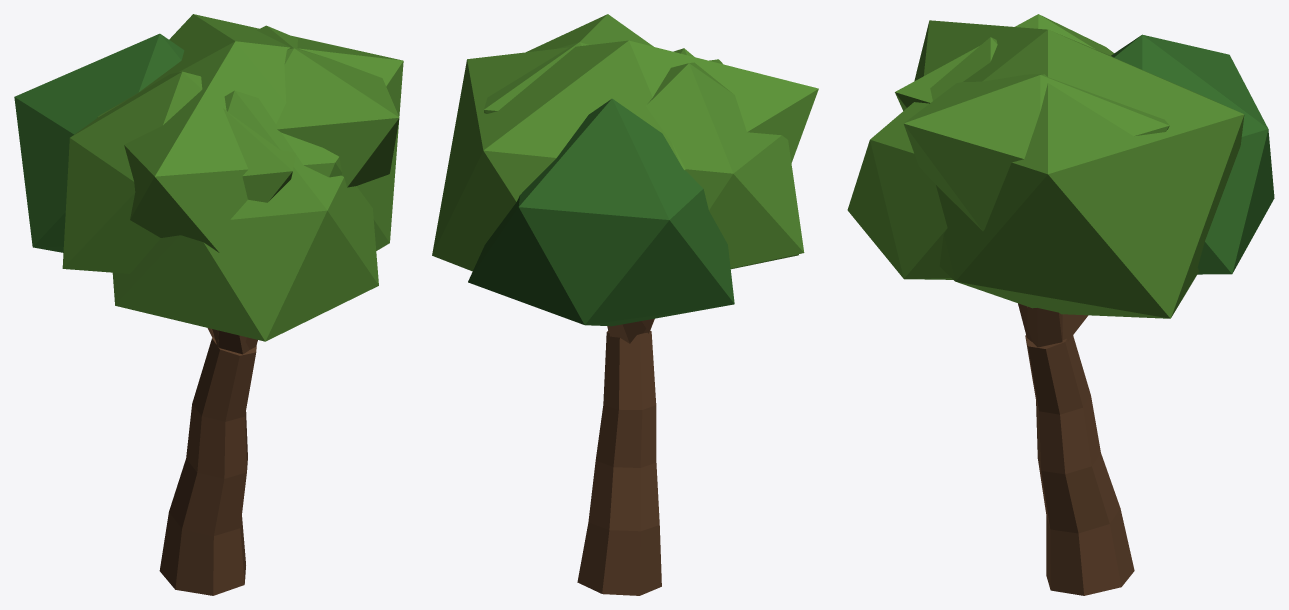
Rendered from Tree_Oak_C.glb.
3 renders of one model, left to right at view 1: azimuth 30°, elevation 25°; view 2: azimuth 150°, elevation 25°; view 3: azimuth 270°, elevation 25°, orthographic. The views are drawn at different scales.
Parts seen in each view (by area): view 1: Tree_Oak_C; view 2: Tree_Oak_C; view 3: Tree_Oak_C.
Part boxes in pixels (x1=…): Tree_Oak_C: x1=14, y1=14, x2=403, y2=595; Tree_Oak_C: x1=432, y1=14, x2=818, y2=595; Tree_Oak_C: x1=847, y1=14, x2=1274, y2=595.
Size of the model in its own units: 2.83 by 4.28 by 2.98.
